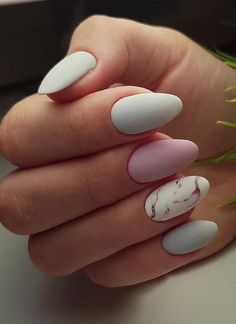nails: (99, 87, 185, 137), (33, 48, 106, 101), (122, 136, 204, 183), (142, 171, 213, 221), (159, 217, 221, 257)
